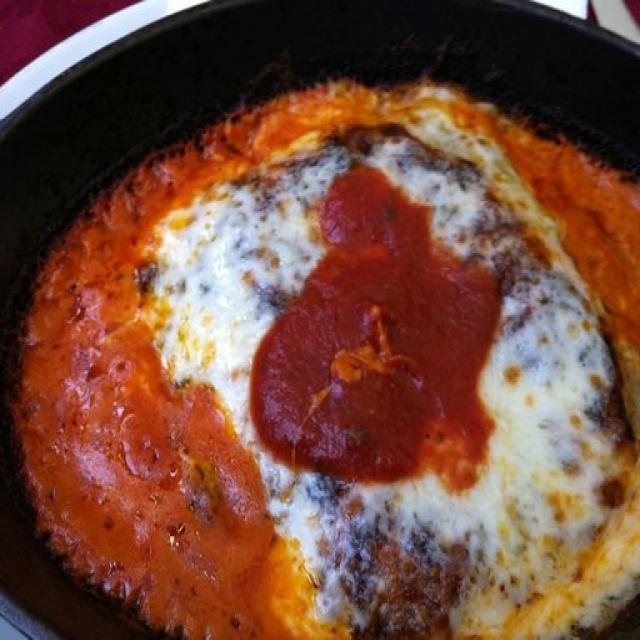Lasagna: (21, 89, 640, 640)
